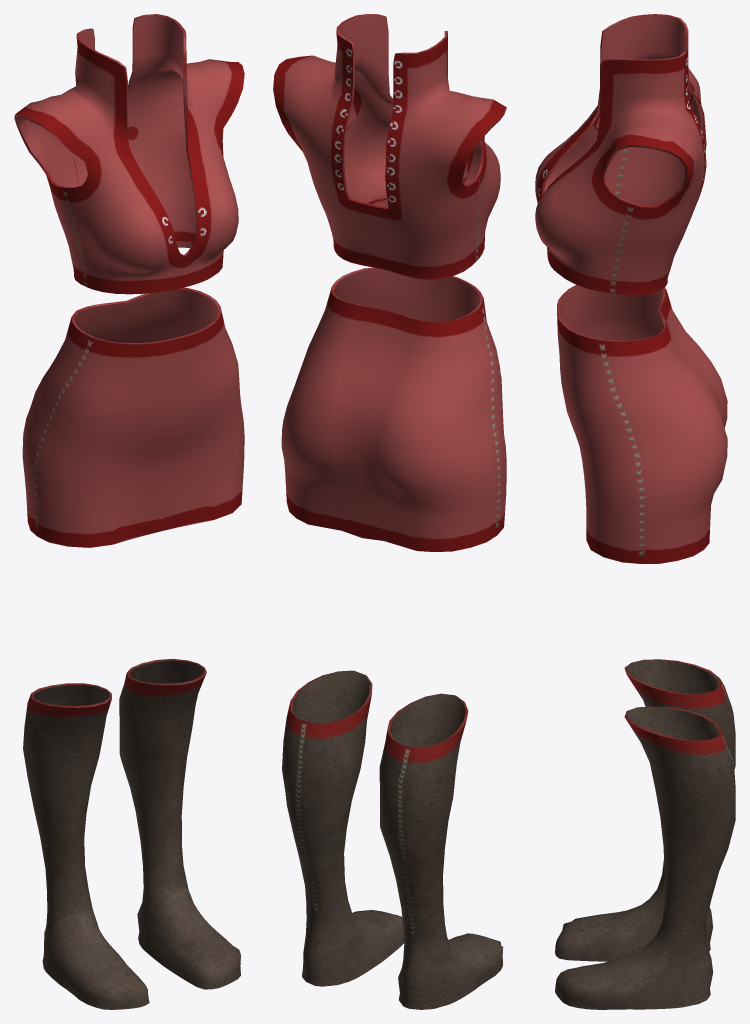
The model's file is Lina_Clothes.fbx.
The picture shows the model from 3 angles, left to right: view 1: azimuth 30°, elevation 25°; view 2: azimuth 150°, elevation 25°; view 3: azimuth 270°, elevation 25°; orthographic projection.
Visible parts, largest first — view 1: skirt_low, bluse_low.001, boots_low; view 2: skirt_low, boots_low, bluse_low.001; view 3: skirt_low, bluse_low.001, boots_low.
Part boxes in pixels (left/top/right/bottom): skirt_low: left=22, top=287, right=244, bottom=547; bluse_low.001: left=14, top=14, right=244, bottom=294; boots_low: left=23, top=658, right=240, bottom=1009; skirt_low: left=281, top=267, right=506, bottom=551; boots_low: left=282, top=670, right=503, bottom=1009; bluse_low.001: left=273, top=14, right=506, bottom=279; skirt_low: left=557, top=285, right=727, bottom=563; bluse_low.001: left=535, top=14, right=706, bottom=295; boots_low: left=555, top=659, right=735, bottom=1009.
Bounding box in the file's own units: 39.71 × 162 × 31.44.
